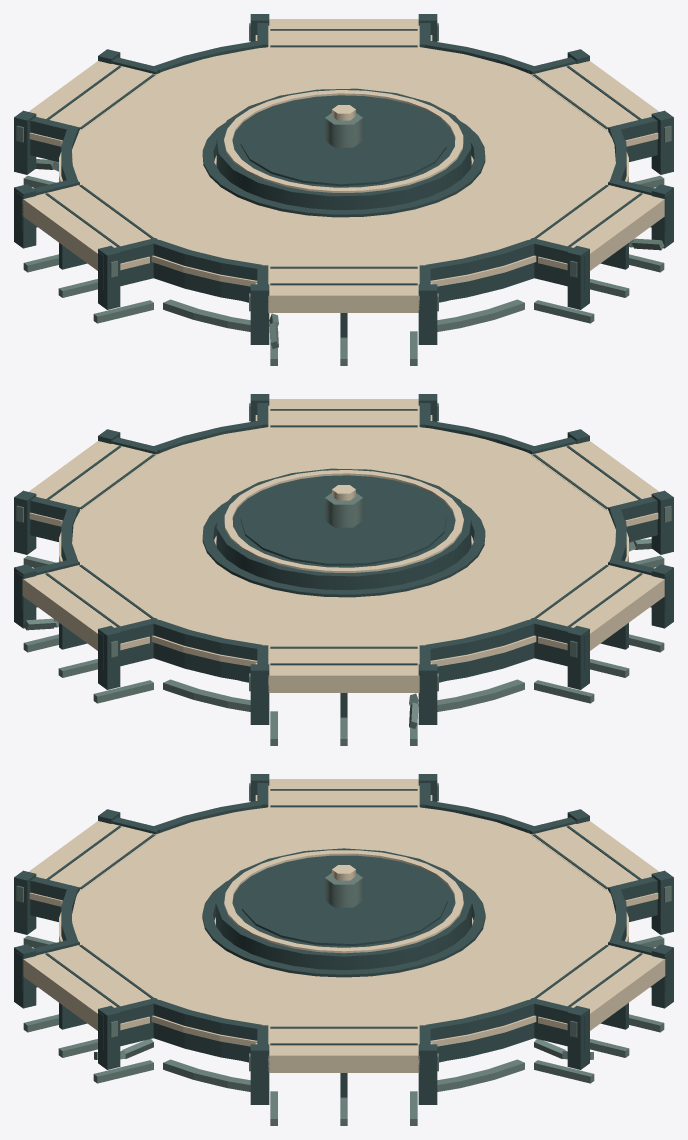
Rendered from Round_6_lab2.glb.
3 renders of one model, top to bottom at view 1: azimuth 30°, elevation 25°; view 2: azimuth 150°, elevation 25°; view 3: azimuth 270°, elevation 25°, orthographic.
Visible parts, largest first — view 1: Round_6; view 2: Round_6; view 3: Round_6.
Part boxes in pixels (x1=…): Round_6: x1=14, y1=14, x2=673, y2=365; Round_6: x1=14, y1=394, x2=673, y2=745; Round_6: x1=14, y1=774, x2=673, y2=1125.
Size of the model in its own units: 12.02 by 2.39 by 12.1.
